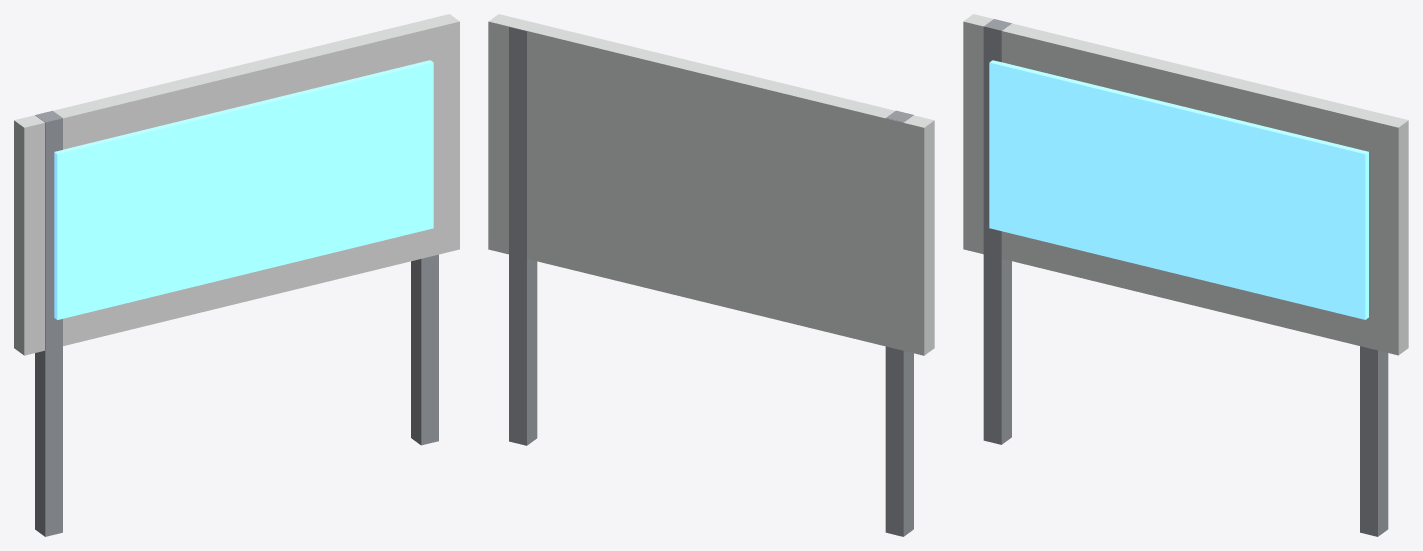
Rendered from car-park-and-road-vehicle-fleet-level-sign-ca3ec4d5__32555.glb.
The picture shows the model from 3 angles, left to right: view 1: azimuth 30°, elevation 25°; view 2: azimuth 150°, elevation 25°; view 3: azimuth 330°, elevation 25°; orthographic projection.
Visible parts, largest first — view 1: level-sign; view 2: level-sign; view 3: level-sign.
Boxes of the visible parts, x1=… form: level-sign: x1=14, y1=14, x2=459, y2=536; level-sign: x1=488, y1=14, x2=934, y2=536; level-sign: x1=963, y1=14, x2=1408, y2=536.
Size of the model in its own units: 2.2 by 2 by 0.1212.
